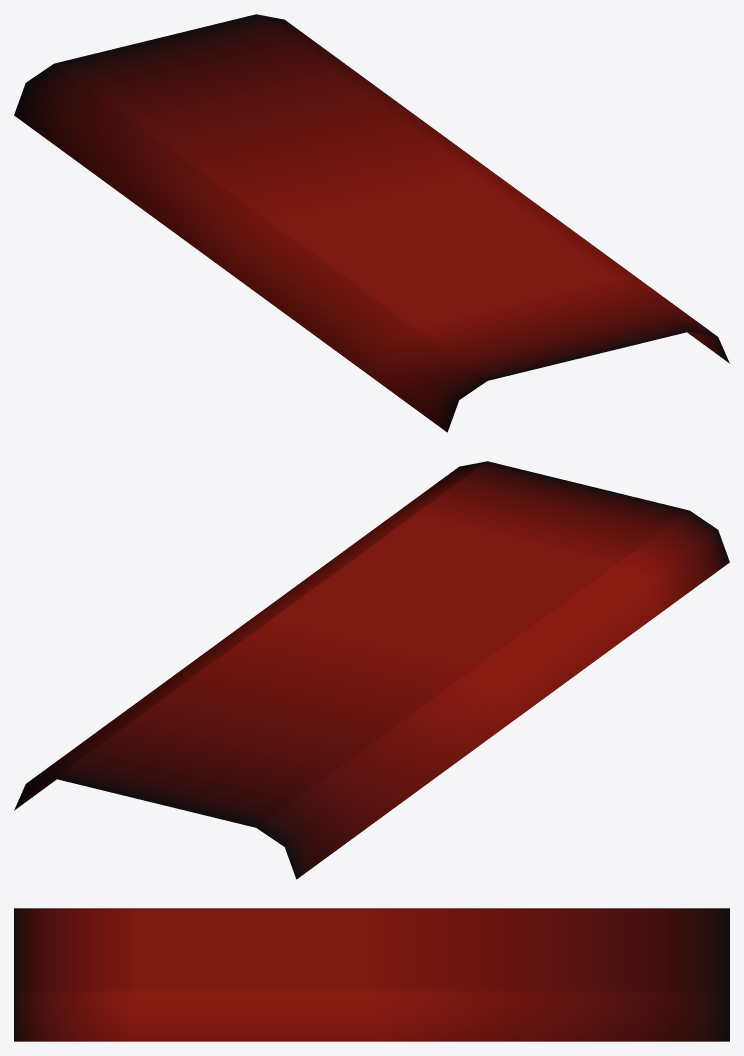
File: VFXmeshs.fbx
3 views of the same model, one above another, from view 1: azimuth 30°, elevation 25°; view 2: azimuth 150°, elevation 25°; view 3: azimuth 270°, elevation 25° (orthographic). The views are drawn at different scales.
Visible parts, largest first — view 1: WindBeam; view 2: WindBeam; view 3: WindBeam.
Part boxes in pixels (bbox=[...]): WindBeam: bbox=[14, 14, 729, 432]; WindBeam: bbox=[14, 461, 729, 879]; WindBeam: bbox=[14, 908, 729, 1041].
Size of the model in its own units: 80.3 by 11.42 by 213.
